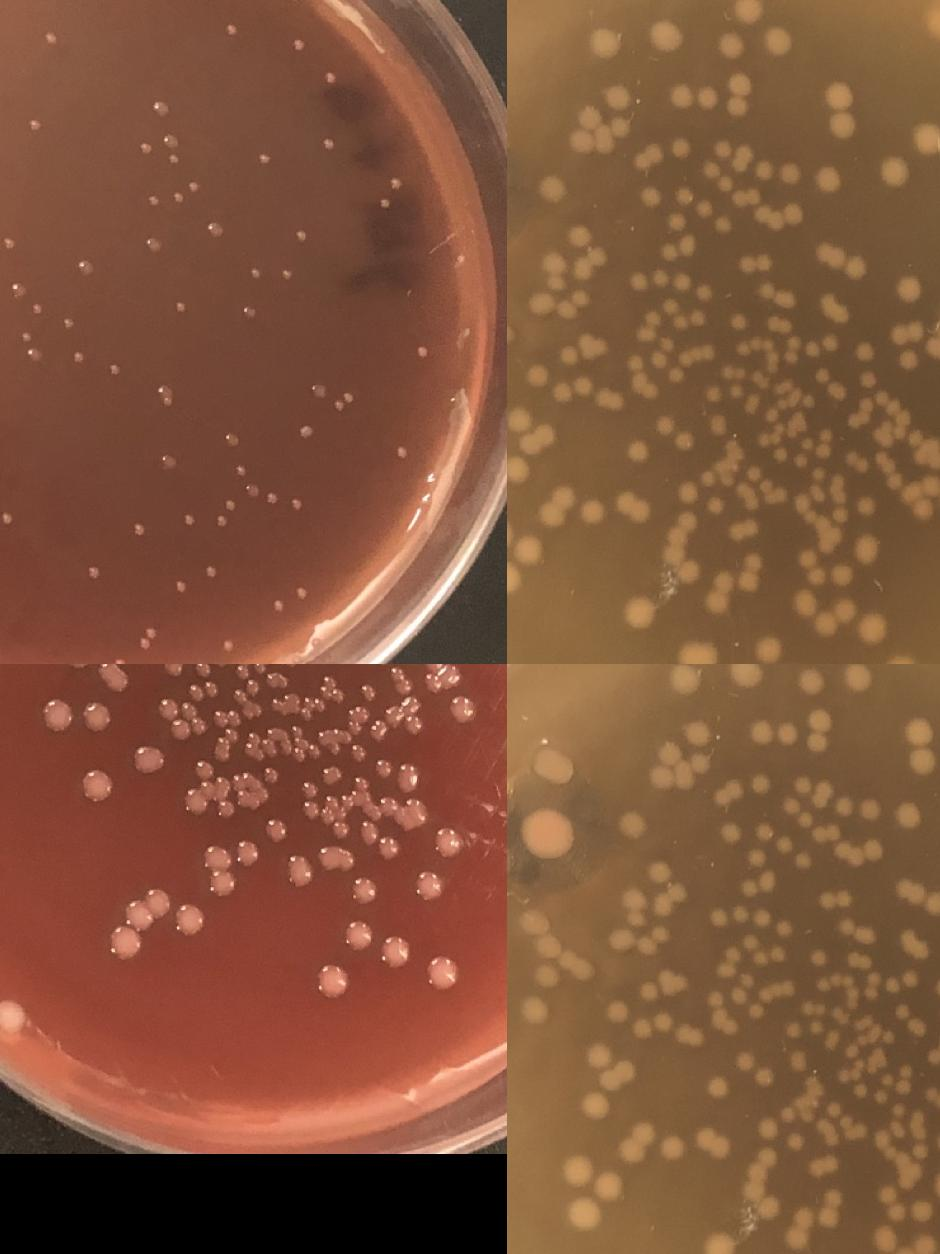pddamselae: (291, 703, 372, 762), (183, 757, 253, 815), (156, 680, 219, 739), (231, 664, 299, 717), (705, 552, 765, 612), (785, 1188, 845, 1248), (520, 907, 562, 990), (736, 312, 800, 365), (816, 948, 880, 1001), (626, 334, 678, 399), (706, 970, 758, 1034), (780, 794, 844, 842), (700, 159, 764, 206), (661, 510, 701, 584), (741, 1146, 781, 1220), (576, 109, 632, 154), (656, 745, 712, 790), (368, 695, 423, 738), (874, 388, 914, 441), (754, 406, 789, 463), (834, 1042, 869, 1099), (825, 80, 858, 139), (905, 716, 938, 775), (126, 888, 171, 930), (203, 846, 238, 899), (792, 424, 834, 468), (872, 1060, 914, 1104), (816, 243, 866, 278), (302, 672, 345, 712), (814, 598, 858, 636), (356, 820, 400, 858), (662, 296, 708, 332), (754, 200, 806, 231), (834, 836, 886, 867), (742, 932, 788, 967), (896, 879, 940, 914), (540, 485, 576, 526), (320, 792, 352, 838), (620, 1122, 656, 1162), (874, 448, 904, 492), (212, 709, 241, 753), (540, 245, 566, 292), (620, 881, 646, 928), (614, 490, 651, 522), (694, 1126, 731, 1158), (740, 870, 780, 899), (660, 234, 700, 262), (797, 546, 825, 586), (316, 844, 356, 872), (877, 1182, 905, 1222), (573, 247, 609, 278), (653, 883, 689, 914), (520, 424, 555, 455), (246, 724, 282, 754), (798, 998, 826, 1036), (814, 366, 846, 399), (894, 1002, 926, 1035), (600, 1060, 635, 1090), (718, 362, 746, 399), (669, 348, 696, 386), (749, 984, 776, 1022), (558, 288, 591, 319), (637, 924, 670, 955), (804, 330, 840, 358), (884, 966, 920, 994), (830, 472, 849, 524), (910, 1108, 929, 1160), (728, 74, 750, 118), (808, 710, 830, 754), (95, 664, 128, 692), (893, 1234, 938, 1254), (634, 144, 666, 172), (652, 18, 680, 50), (714, 780, 746, 808), (426, 665, 460, 691), (716, 946, 742, 979), (514, 534, 542, 564), (592, 27, 620, 57), (605, 82, 633, 112), (719, 32, 747, 62), (765, 27, 793, 57), (815, 164, 843, 194), (882, 156, 910, 186), (521, 997, 549, 1027), (544, 752, 572, 782), (564, 1156, 592, 1186), (568, 1198, 596, 1228), (594, 1170, 622, 1200), (685, 718, 713, 748), (799, 668, 827, 698), (895, 801, 923, 831), (636, 310, 662, 342), (890, 322, 926, 345), (806, 464, 826, 505), (886, 1100, 906, 1141), (754, 635, 782, 664), (282, 859, 311, 887), (350, 877, 379, 905), (672, 664, 700, 693), (845, 664, 873, 693), (626, 598, 653, 628), (583, 1092, 610, 1122), (655, 967, 690, 990), (83, 772, 111, 800), (111, 928, 139, 956), (136, 746, 164, 774), (175, 907, 203, 935), (320, 968, 348, 996), (345, 922, 373, 950), (380, 938, 408, 966), (434, 829, 462, 857), (540, 174, 566, 204), (860, 612, 886, 642), (927, 301, 940, 361), (620, 810, 646, 840), (575, 332, 610, 354), (730, 142, 754, 174), (810, 778, 834, 810), (84, 703, 112, 730), (395, 764, 423, 791), (593, 387, 624, 411), (673, 1023, 704, 1047), (738, 254, 775, 274), (818, 890, 855, 910), (45, 703, 72, 730), (416, 873, 442, 901), (430, 958, 456, 986), (916, 124, 940, 154), (842, 448, 869, 474), (388, 665, 412, 694), (507, 456, 530, 486), (854, 536, 882, 560), (896, 276, 924, 300), (755, 1117, 781, 1142), (660, 1134, 687, 1158), (908, 1197, 935, 1221), (526, 363, 552, 387), (625, 439, 651, 463), (675, 482, 701, 506), (793, 592, 819, 616), (828, 561, 854, 585), (586, 1044, 612, 1068), (606, 999, 632, 1023), (705, 1075, 731, 1099), (873, 1228, 899, 1252), (580, 499, 607, 522), (507, 408, 532, 432), (450, 700, 474, 725), (737, 0, 765, 21), (705, 1233, 733, 1254), (732, 664, 760, 685), (264, 818, 288, 842), (685, 644, 713, 664), (320, 763, 342, 787), (921, 1084, 940, 1109), (741, 517, 761, 539), (856, 493, 876, 515), (821, 1153, 841, 1175), (914, 497, 933, 520), (641, 185, 661, 206), (921, 473, 940, 495), (560, 346, 580, 366), (570, 225, 590, 245), (573, 373, 593, 393), (651, 268, 671, 288), (654, 415, 674, 435), (668, 210, 688, 230), (673, 272, 693, 292), (676, 184, 696, 204), (694, 197, 714, 217), (694, 280, 714, 300), (697, 88, 717, 108), (706, 382, 726, 402), (708, 412, 728, 432), (712, 138, 732, 158), (752, 160, 772, 180), (756, 280, 776, 300), (854, 343, 874, 363), (858, 369, 878, 389), (898, 348, 918, 368), (215, 798, 235, 818), (298, 801, 318, 821), (300, 778, 320, 798), (374, 759, 394, 779), (640, 982, 660, 1002), (653, 1009, 673, 1029), (721, 822, 741, 842), (731, 904, 751, 924), (734, 1051, 754, 1071), (748, 846, 768, 866), (752, 772, 772, 792), (753, 908, 773, 928), (774, 833, 794, 853), (774, 916, 794, 936), (777, 724, 797, 744), (786, 1018, 806, 1038), (788, 1048, 808, 1068), (792, 774, 812, 794), (808, 946, 828, 966), (836, 916, 856, 936), (629, 271, 648, 291), (672, 136, 691, 156), (675, 432, 694, 452), (713, 214, 732, 234), (728, 310, 748, 329), (781, 162, 800, 182), (651, 861, 670, 881), (751, 721, 770, 741), (757, 820, 776, 840), (833, 796, 852, 816), (860, 798, 879, 818), (792, 850, 811, 869), (672, 85, 690, 105), (710, 907, 728, 927), (756, 1068, 774, 1088), (553, 384, 572, 402), (262, 766, 280, 784), (359, 682, 377, 700), (634, 1020, 652, 1038), (350, 742, 366, 762), (162, 664, 186, 677), (758, 478, 776, 495), (799, 391, 816, 409), (380, 797, 398, 814), (879, 1027, 896, 1045), (700, 469, 716, 487), (746, 463, 762, 481), (238, 846, 256, 862), (268, 695, 284, 713), (780, 1105, 796, 1123), (826, 1099, 842, 1117), (838, 1114, 856, 1130), (507, 562, 516, 592), (195, 664, 213, 679), (352, 776, 370, 790), (889, 658, 917, 664), (292, 724, 305, 736), (934, 1172, 940, 1196), (934, 979, 940, 999), (424, 664, 442, 670), (936, 1129, 940, 1151)
pdpiscicida: (331, 389, 357, 414), (136, 627, 158, 652), (26, 346, 44, 360), (172, 301, 190, 315), (214, 515, 232, 529), (43, 30, 60, 44), (130, 522, 147, 536), (231, 463, 248, 477), (263, 490, 280, 504), (301, 424, 318, 438), (377, 197, 394, 211), (222, 23, 240, 36), (310, 382, 328, 395), (0, 510, 16, 524), (84, 566, 100, 580), (138, 140, 154, 154), (160, 132, 176, 146), (166, 152, 182, 166), (180, 513, 196, 527), (186, 179, 202, 193), (208, 221, 224, 235), (258, 151, 274, 165), (274, 600, 290, 614), (290, 37, 306, 51), (294, 227, 310, 241), (388, 177, 404, 191), (394, 444, 410, 458), (414, 344, 430, 358), (171, 191, 188, 204), (26, 118, 44, 130), (28, 302, 43, 316), (147, 238, 162, 252), (205, 565, 220, 579), (146, 194, 162, 207), (162, 455, 178, 468), (244, 482, 260, 495), (60, 316, 77, 328), (245, 268, 262, 280), (279, 268, 296, 280), (322, 70, 339, 82), (2, 236, 16, 250), (12, 280, 26, 294), (72, 349, 86, 363), (154, 100, 168, 114), (176, 578, 190, 592), (222, 639, 236, 653), (296, 587, 310, 601), (322, 136, 336, 150), (19, 330, 34, 343), (108, 362, 123, 375), (78, 260, 94, 272), (222, 432, 238, 444), (290, 498, 306, 510), (243, 306, 258, 318), (158, 386, 172, 398), (222, 498, 236, 510), (113, 658, 130, 664)
